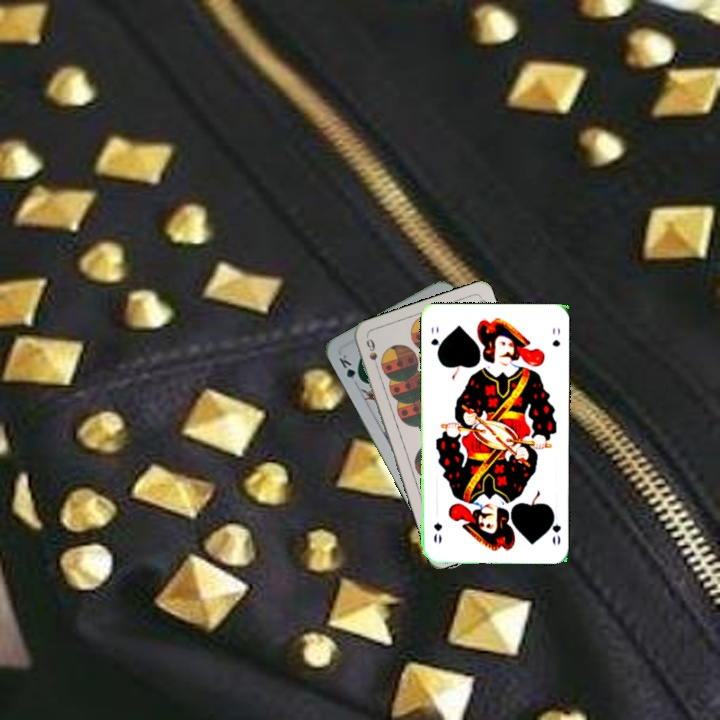GK: (335, 351, 365, 385)
GO: (544, 507, 563, 548), (427, 322, 444, 359)
S9: (362, 334, 382, 374)
